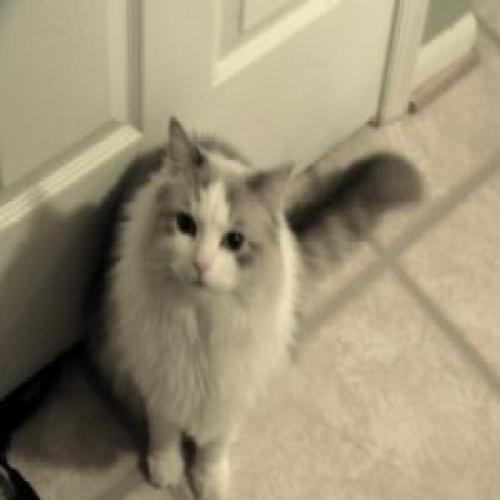ragdoll: (153, 111, 294, 321)
